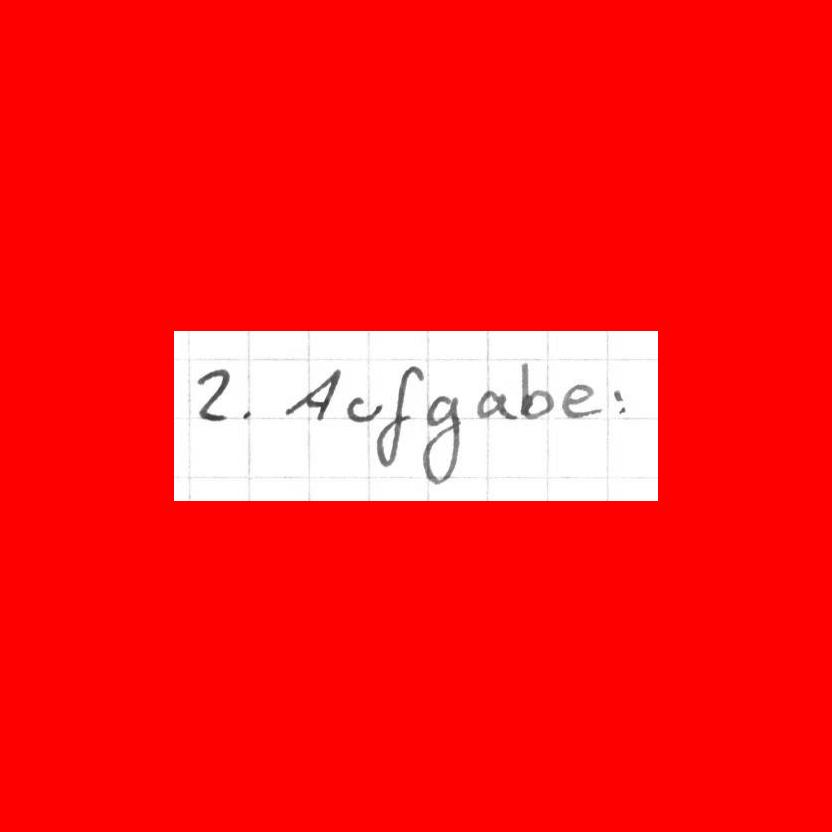Char: (374, 363, 425, 467), (417, 393, 463, 486), (281, 367, 343, 424), (194, 363, 234, 427), (518, 358, 557, 422), (557, 380, 602, 422), (473, 386, 519, 421), (345, 394, 385, 421), (608, 383, 631, 421), (234, 405, 259, 429)
